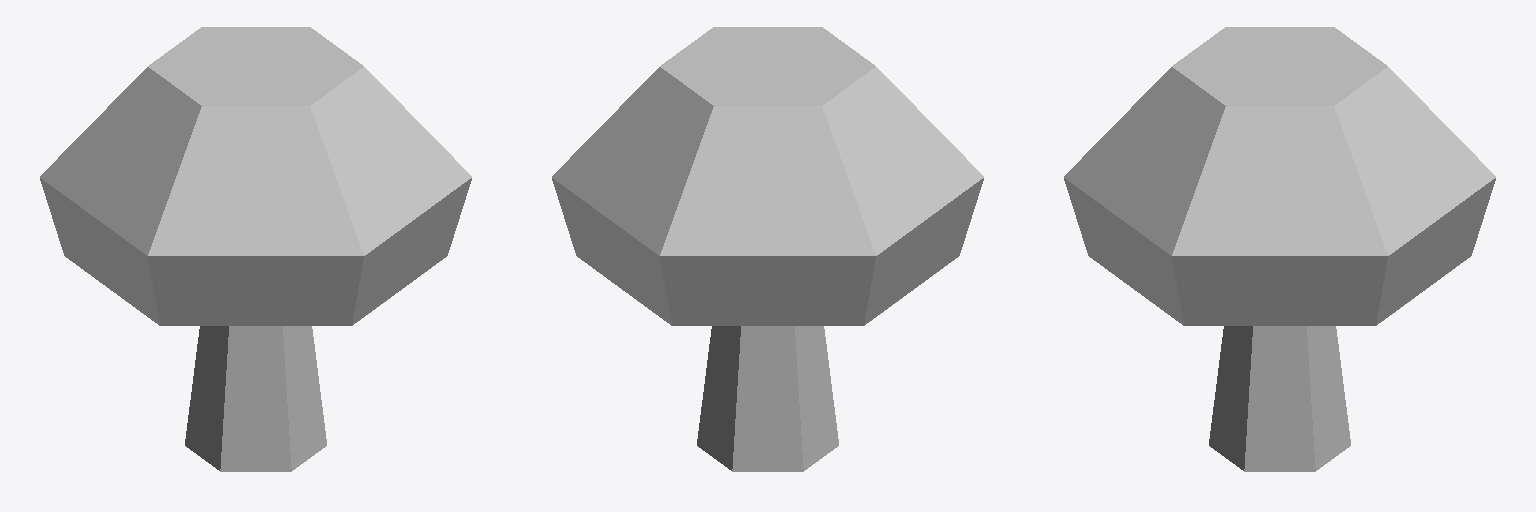
File: mushroom.obj
3 renders of one model, left to right at view 1: azimuth 30°, elevation 25°; view 2: azimuth 150°, elevation 25°; view 3: azimuth 270°, elevation 25°, orthographic.
Parts seen in each view (by area): view 1: mushroom; view 2: mushroom; view 3: mushroom.
Boxes of the visible parts, x1,y1,x2,y2 form: mushroom: [40, 27, 471, 471]; mushroom: [552, 27, 983, 471]; mushroom: [1064, 27, 1495, 471].
Bounding box in the file's own units: 0.1249 × 0.1392 × 0.1442.